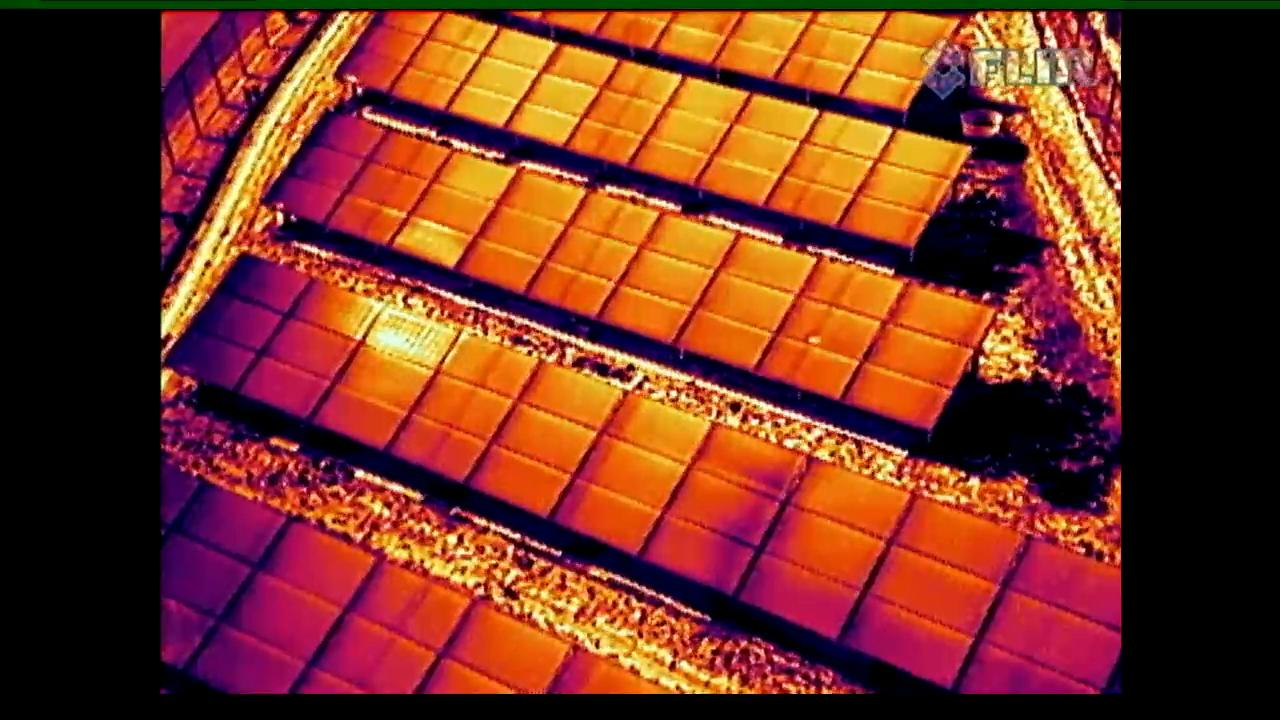hotspot: (751, 253, 904, 398)
